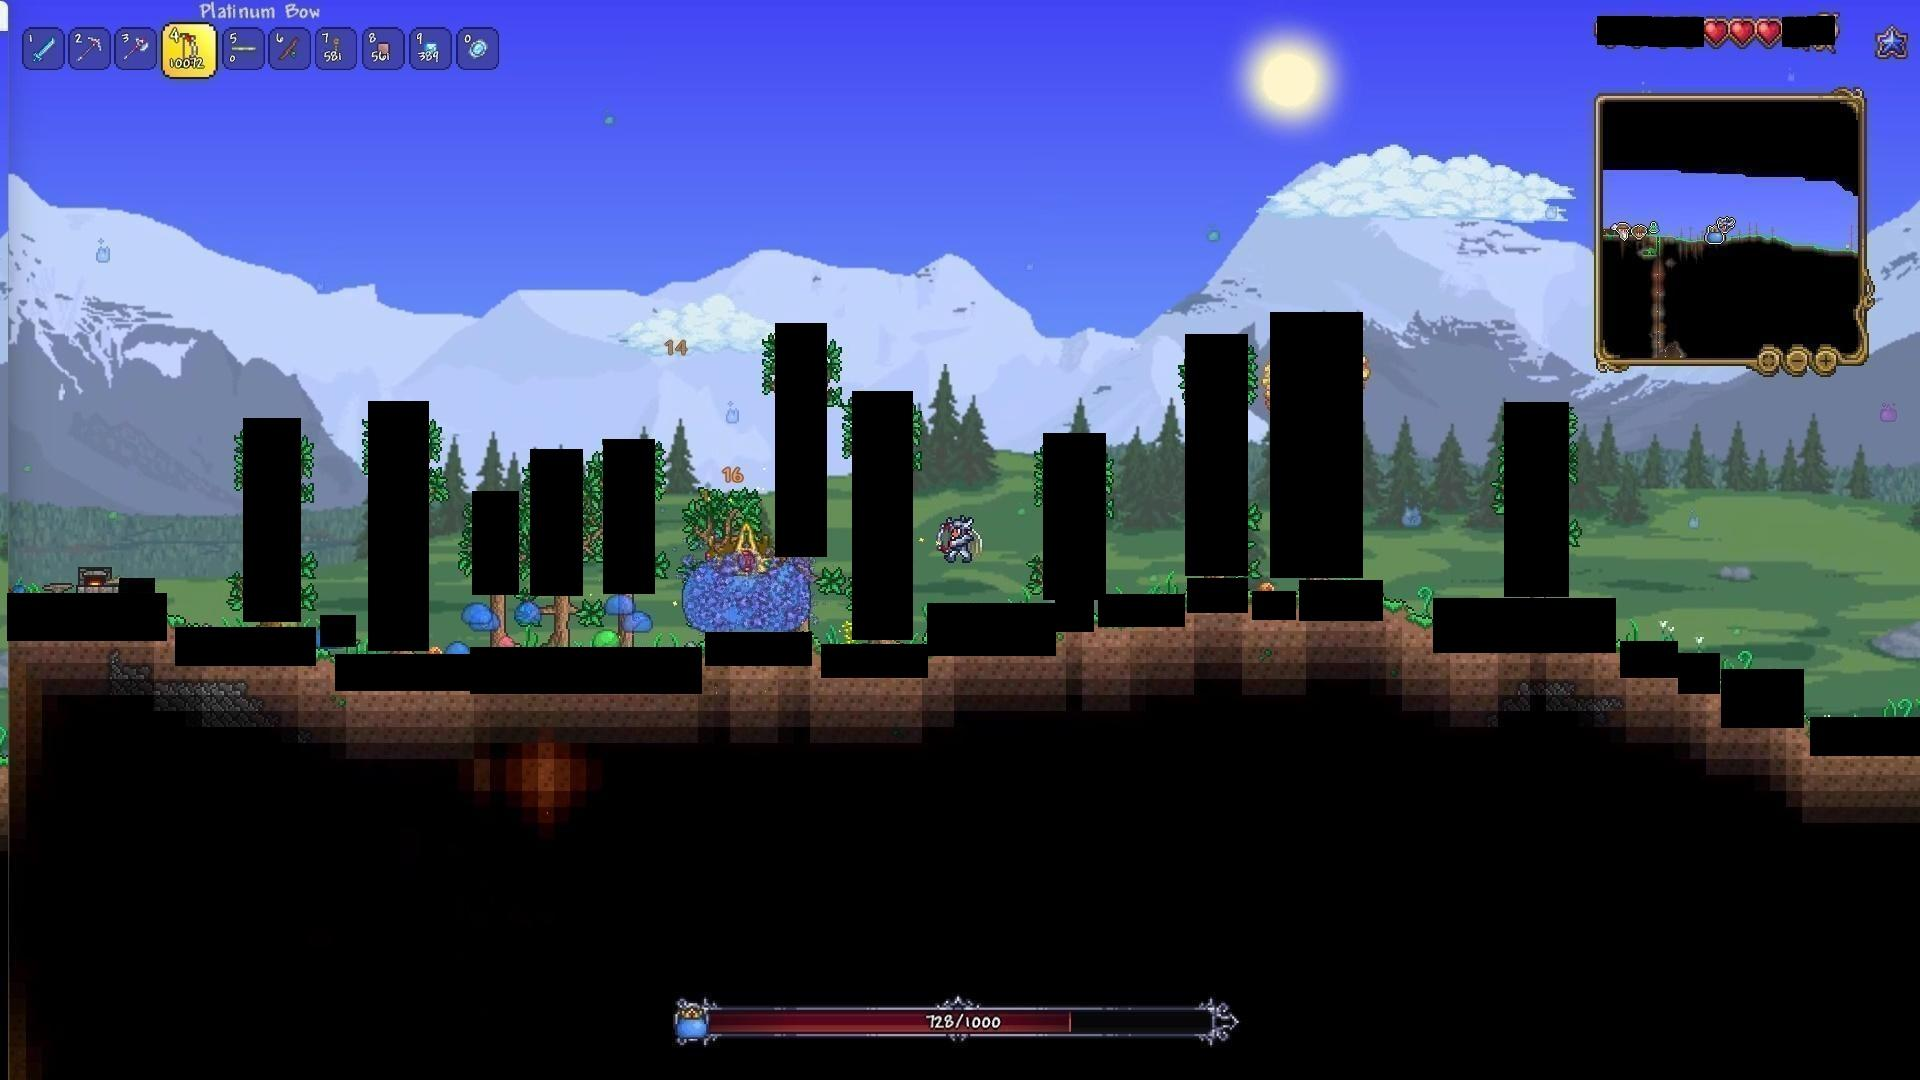dirt: (1383, 597, 1425, 632)
heart: (1702, 18, 1731, 47), (1731, 18, 1759, 49), (1758, 18, 1785, 47)
slime: (440, 636, 473, 669), (599, 593, 638, 618), (620, 613, 659, 637), (516, 600, 546, 629), (458, 603, 496, 622), (593, 629, 621, 654), (495, 636, 517, 650)
